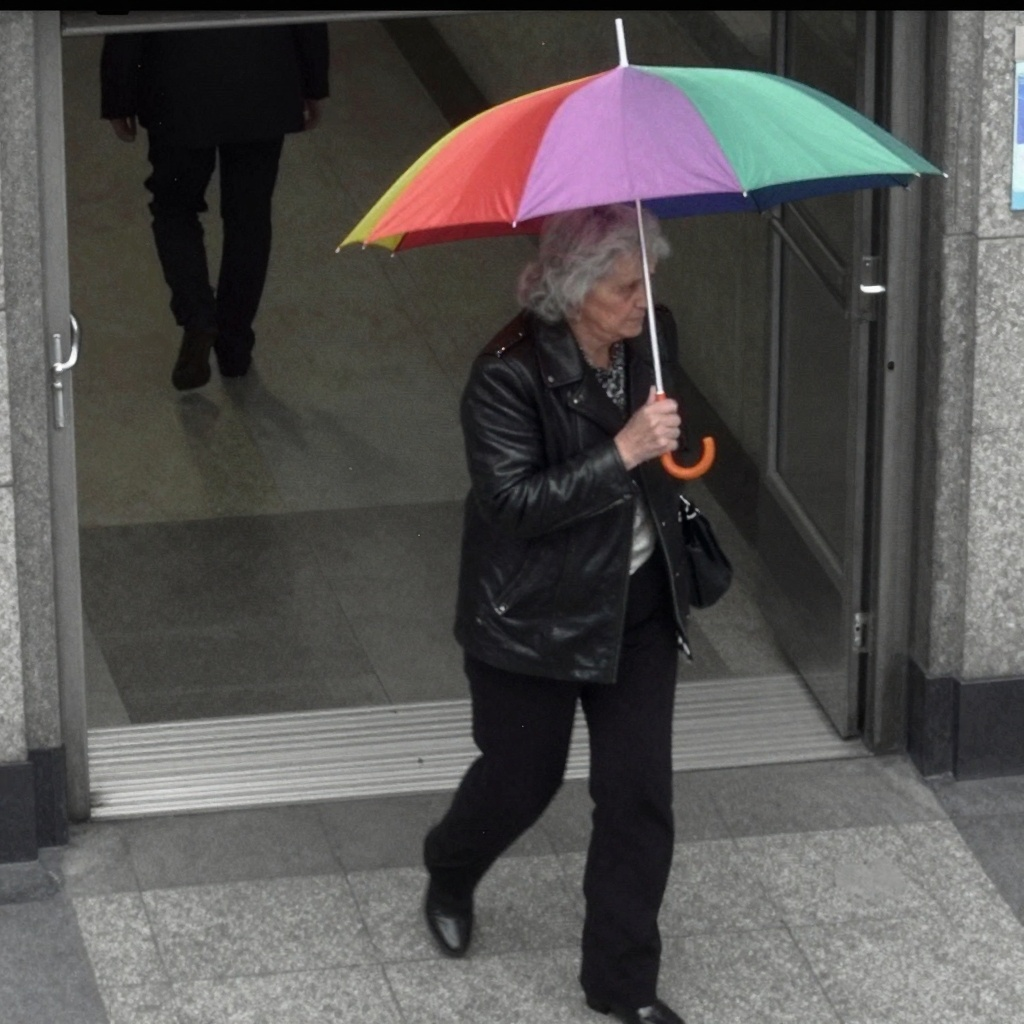Normal activity: (420, 204, 721, 1016), (99, 1, 331, 393)
